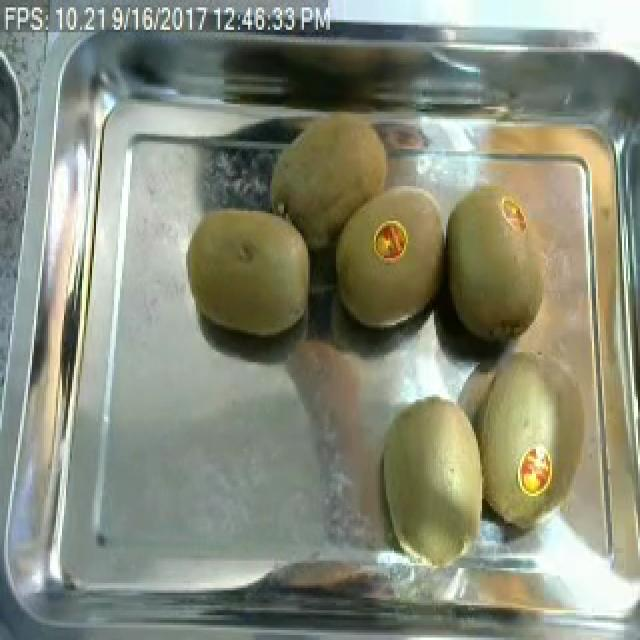Fruit: (436, 107, 632, 362), (366, 387, 488, 580), (256, 100, 398, 260), (178, 196, 322, 347), (322, 196, 448, 342), (510, 436, 560, 504)
